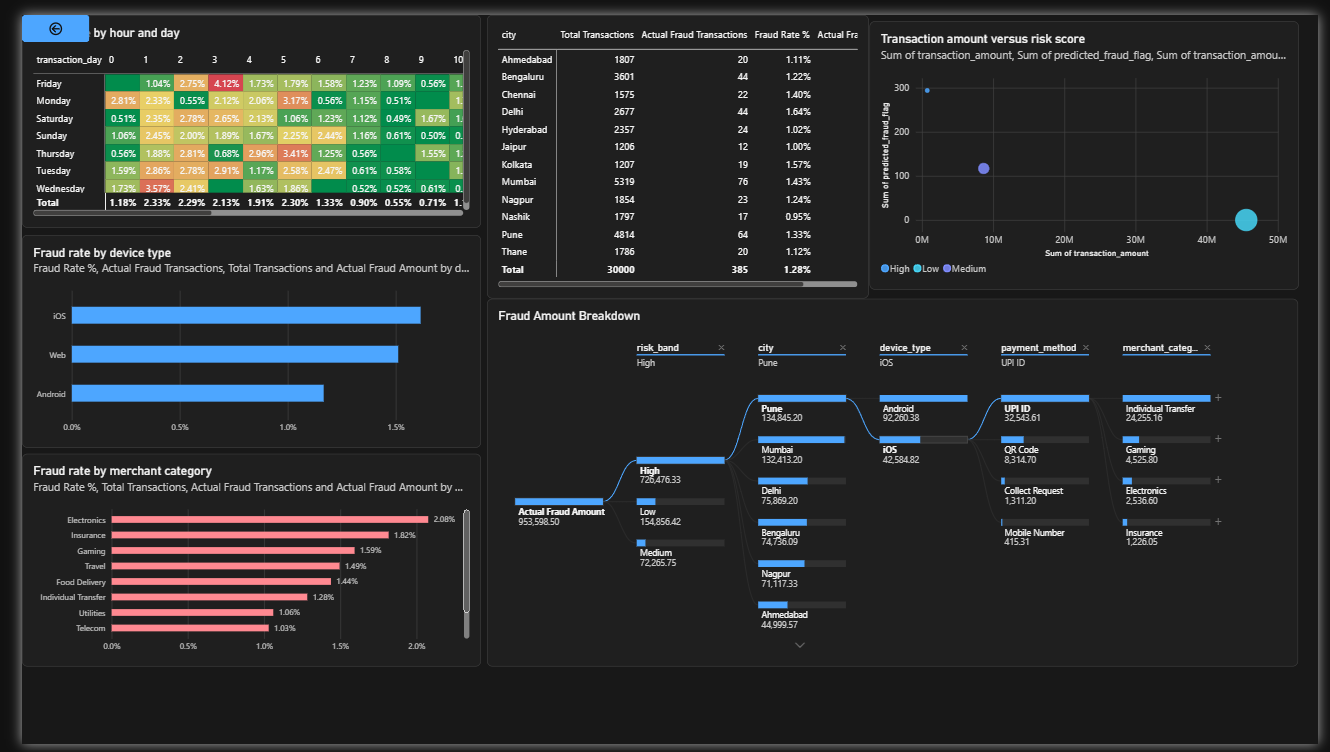

This screenshot's page, from the dashboard's own definition file:
{"tool":"powerbi","page":{"name":"Fraud pattern analysis","canvas":[1920,1080],"ordinal":1},"visuals":[{"type":"barChart","title":"Fraud rate by device type","fields":{"Category":["UPI Transactions.device_type"],"Y":["UPI Transactions.Fraud Rate %"]},"box":[0,325,680,315],"z":1},{"type":"barChart","title":"Fraud rate by merchant category","fields":{"Category":["UPI Transactions.merchant_category"],"Y":["UPI Transactions.Fraud Rate %"]},"box":[0,650,680,315],"z":2},{"type":"pivotTable","title":"City fraud analysis matrix","fields":{"Rows":["UPI Transactions.city"],"Values":["UPI Transactions.Total Transactions","UPI Transactions.Fraud Transactions","UPI Transactions.Fraud Rate %","UPI Transactions.Fraud Amount"]},"box":[689.8,0,565.6,420.4],"z":3},{"type":"scatterChart","title":"Transaction amount versus risk score","fields":{"Series":["UPI Transactions.risk_band"],"Size":["Sum(UPI Transactions.transaction_amount)"],"X":["Sum(UPI Transactions.transaction_amount)"],"Y":["Sum(UPI Transactions.predicted_fraud_flag)"]},"box":[1255.4,9.6,636.3,397.5],"z":4},{"type":"pivotTable","title":"Fraud rate by hour and day","fields":{"Columns":["UPI Transactions.transaction_hour"],"Rows":["UPI Transactions.transaction_day"],"Values":["UPI Transactions.Fraud Rate %"]},"box":[0,0,680,315],"z":5},{"type":"actionButton","box":[0,0,100,40],"z":6},{"type":"decompositionTreeVisual","title":"Fraud Amount Breakdown","fields":{"Analyze":["UPI Transactions.Fraud Amount"],"ExplainBy":["UPI Transactions.risk_band","UPI Transactions.city","UPI Transactions.device_type","UPI Transactions.payment_method","UPI Transactions.merchant_category","UPI Transactions.transaction_type"]},"box":[689.8,420.4,1201.9,544.6],"z":7}]}

Visuals, with their boxes in screenshot pixels (x1, y1, x2, y2), scaled from the page's 1920x1080 canvas onto the 1330x752 screenshot:
"Fraud rate by device type" barChart: left=0, top=226, right=471, bottom=446
"Fraud rate by merchant category" barChart: left=0, top=453, right=471, bottom=672
"City fraud analysis matrix" pivotTable: left=478, top=0, right=870, bottom=293
"Transaction amount versus risk score" scatterChart: left=870, top=7, right=1310, bottom=283
"Fraud rate by hour and day" pivotTable: left=0, top=0, right=471, bottom=219
actionButton: left=0, top=0, right=69, bottom=28
"Fraud Amount Breakdown" decompositionTreeVisual: left=478, top=293, right=1310, bottom=672
